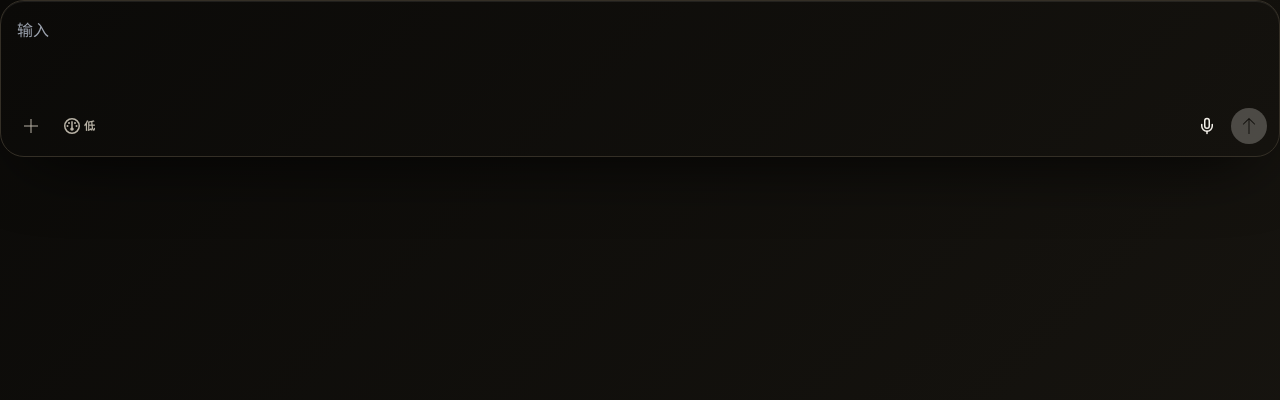
AgentComposer thinking-depth picker › defaults to low and opens a three-tier menu
Click the button named "思考深度: 低" at (80, 126), box [53, 108, 106, 144]
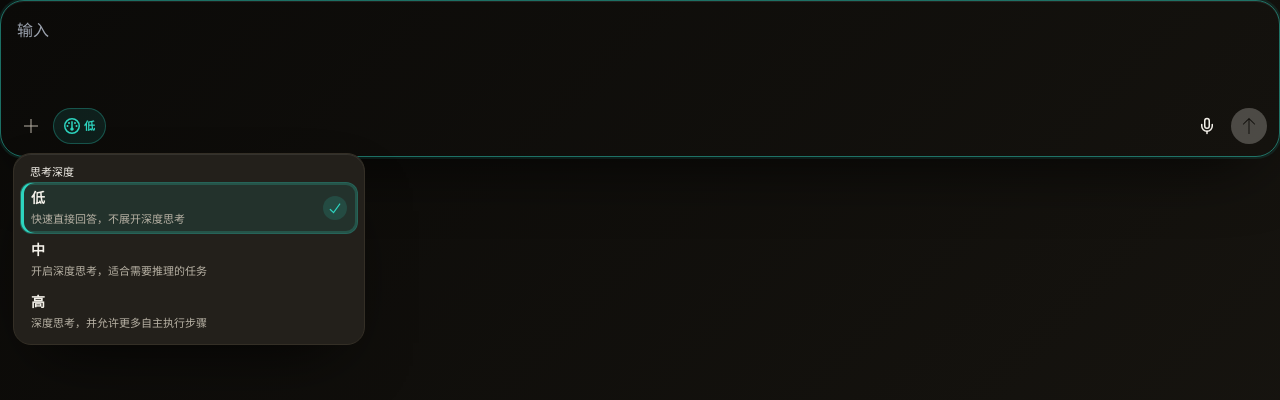
Expected: the menu "思考深度" is shown, [13, 153, 365, 345]
Expected: the menu item "低 快速直接回答，不展开深度思考" is shown, [20, 182, 358, 234]
Expected: the menu item "中 开启深度思考，适合需要推理的任务" is shown, [20, 234, 358, 286]
